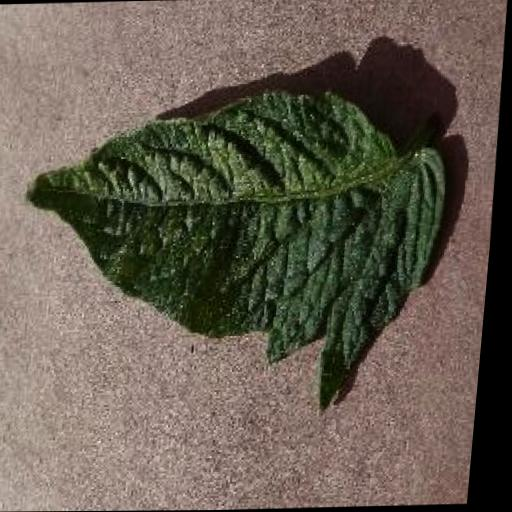Spider Mites: (6, 87, 459, 421)
